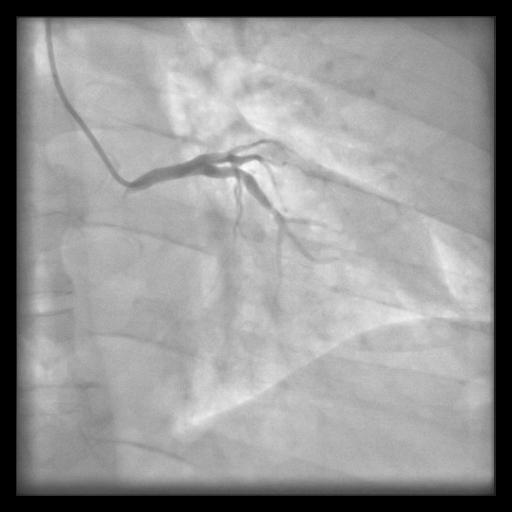Stenosis: (268, 202, 277, 214)
